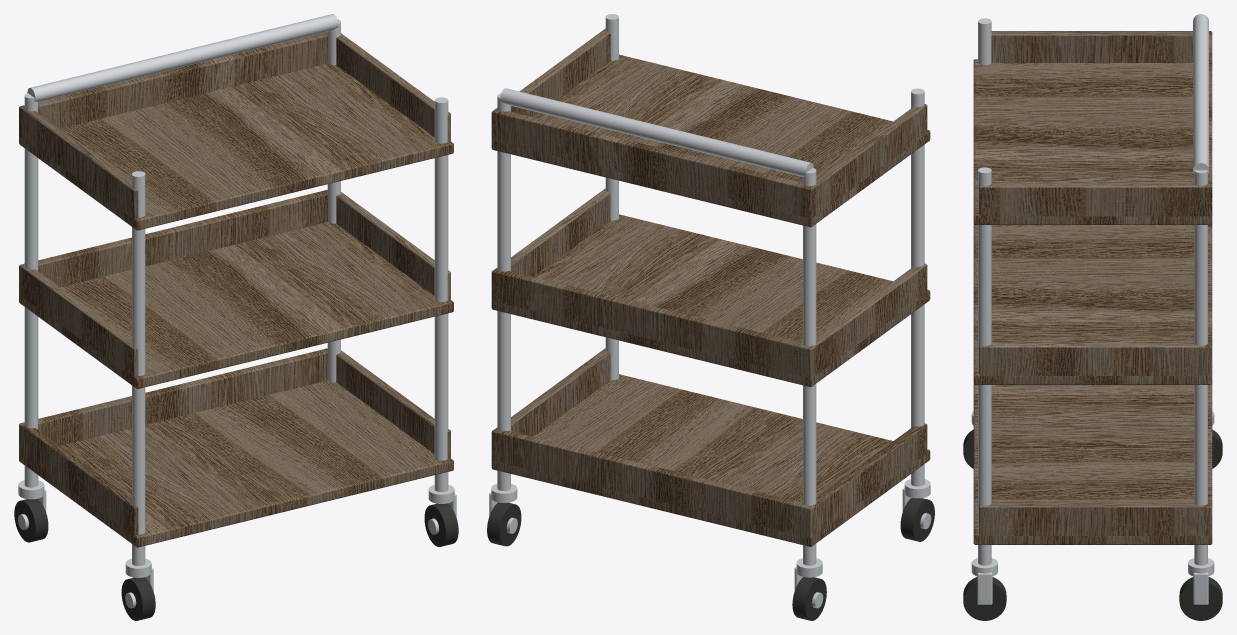
File: detail-trolley.glb
3 renders of one model, left to right at view 1: azimuth 30°, elevation 25°; view 2: azimuth 150°, elevation 25°; view 3: azimuth 270°, elevation 25°, orthographic.
Visible parts, largest first — view 1: 带护边托盘.002, 带护边托盘, 带护边托盘.001, 托盘背护边.002, 托盘背护边, 托盘背护边.001, 推车立柱.002, 推车手柄, 推车立柱, 左护边.001, 左护边, 左护边.002 (+8 smaller); view 2: 带护边托盘, 带护边托盘.001, 带护边托盘.002, 托盘背护边.001, 托盘背护边.002, 托盘背护边, 推车手柄, 左护边, 左护边.001, 左护边.002, 推车立柱.001, 推车立柱 (+8 smaller); view 3: 带护边托盘.002, 带护边托盘, 带护边托盘.001, 右护边.002, 右护边, 右护边.001, 左护边.002, 推车立柱.002, 推车立柱.003, 推车手柄, 万向轮轮胎.002, 万向轮轮胎.003 (+6 smaller).
Part boxes in pixels (x1,y1,x2,y2): 带护边托盘.002: (19,63,453,230); 带护边托盘: (19,380,453,547); 带护边托盘.001: (19,222,453,388); 托盘背护边.002: (19,31,327,137); 托盘背护边: (19,348,327,454); 托盘背护边.001: (19,190,327,295); 推车立柱.002: (434,97,448,492); 推车手柄: (27,14,338,101); 推车立柱: (132,171,145,565); 左护边.001: (22,266,138,377); 左护边: (22,425,138,536); 左护边.002: (22,108,138,219); 带护边托盘: (491,374,930,546); 带护边托盘.001: (491,214,930,387); 带护边托盘.002: (491,54,930,227); 托盘背护边.001: (491,268,815,378); 托盘背护边.002: (491,109,815,218); 托盘背护边: (491,428,815,538); 推车手柄: (500,88,813,176); 左护边: (814,423,927,535); 左护边.001: (814,263,927,375); 左护边.002: (814,104,927,215); 推车立柱.001: (803,168,816,565); 推车立柱: (911,88,924,486); 带护边托盘.002: (973,59,1212,224); 带护边托盘: (973,384,1212,544); 带护边托盘.001: (973,224,1212,384); 右护边.002: (979,183,1204,216); 右护边: (979,502,1204,535); 右护边.001: (979,343,1204,375); 左护边.002: (991,31,1192,62); 推车立柱.002: (978,167,991,565); 推车立柱.003: (1194,170,1207,565); 推车手柄: (1193,14,1208,173); 万向轮轮胎.002: (963,577,1006,620); 万向轮轮胎.003: (1179,577,1222,620).
Bounding box in the file's own units: 0.667 × 0.882 × 0.456.
3 materials, 1 textured.
